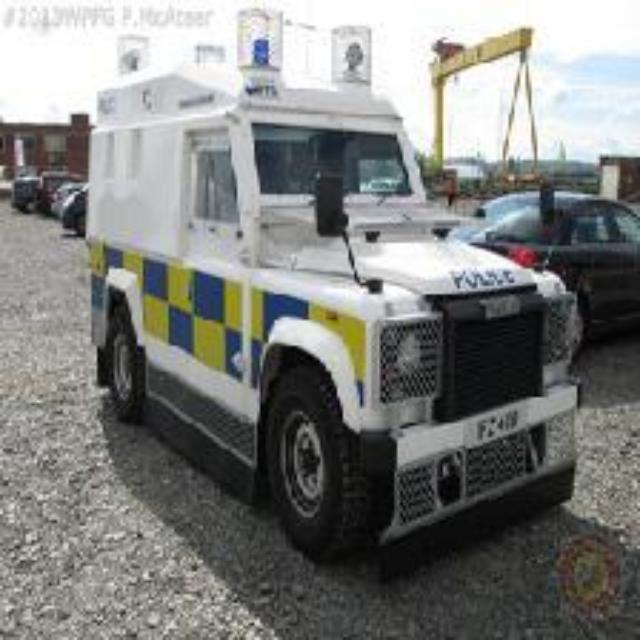emergency: (81, 35, 578, 543)
